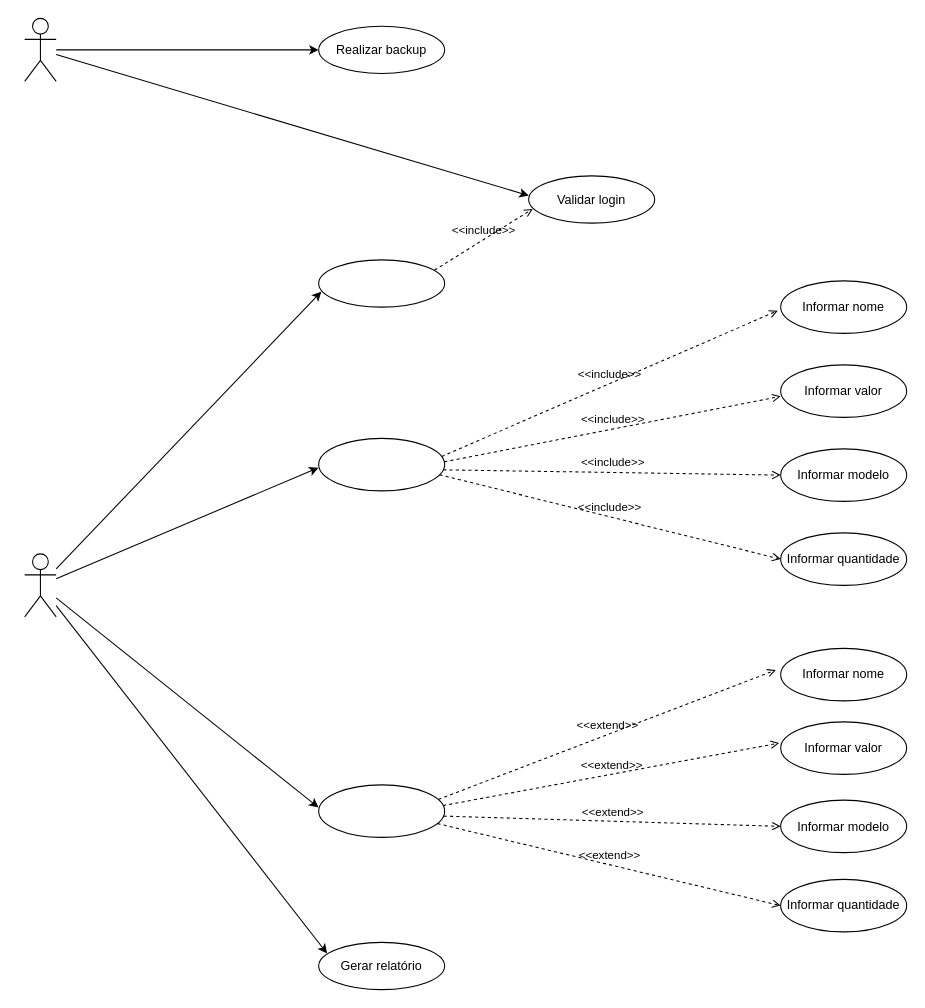
The diagram is 925 pixels wide and 1008 high, and some of its shapes have lost their labels. The shapes that lost their labels are listed below. From the top down, each one's centre as x and y in pixels, then its label:
At point (40, 49): "Sistema".
At point (381, 283): "Realizar login".
At point (381, 464): "Cadastrar produto".
At point (40, 585): "Gerente".
At point (381, 810): "Atualizar produto".
